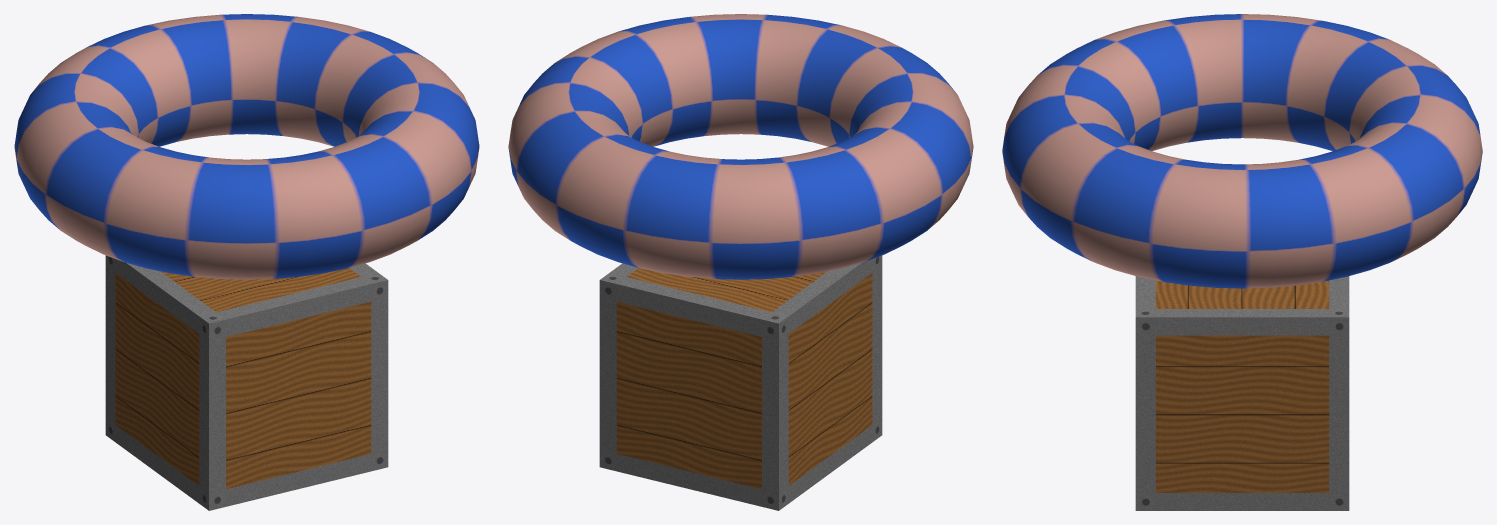
3 views of the same model, side by side, from view 1: azimuth 30°, elevation 25°; view 2: azimuth 150°, elevation 25°; view 3: azimuth 270°, elevation 25° (orthographic). The views are drawn at different scales.
Visible parts, largest first — view 1: Torus, Crate; view 2: Torus, Crate; view 3: Torus, Crate.
Part boxes in pixels (x1,y1,x2,y2): Torus: (14,14,479,279); Crate: (105,255,388,510); Torus: (508,14,973,279); Crate: (599,255,882,510); Torus: (1002,14,1482,288); Crate: (1135,276,1349,510).
Size of the model in its own units: 2.7 by 2.3 by 2.7.
Materials: 2 (2 with a texture image).
